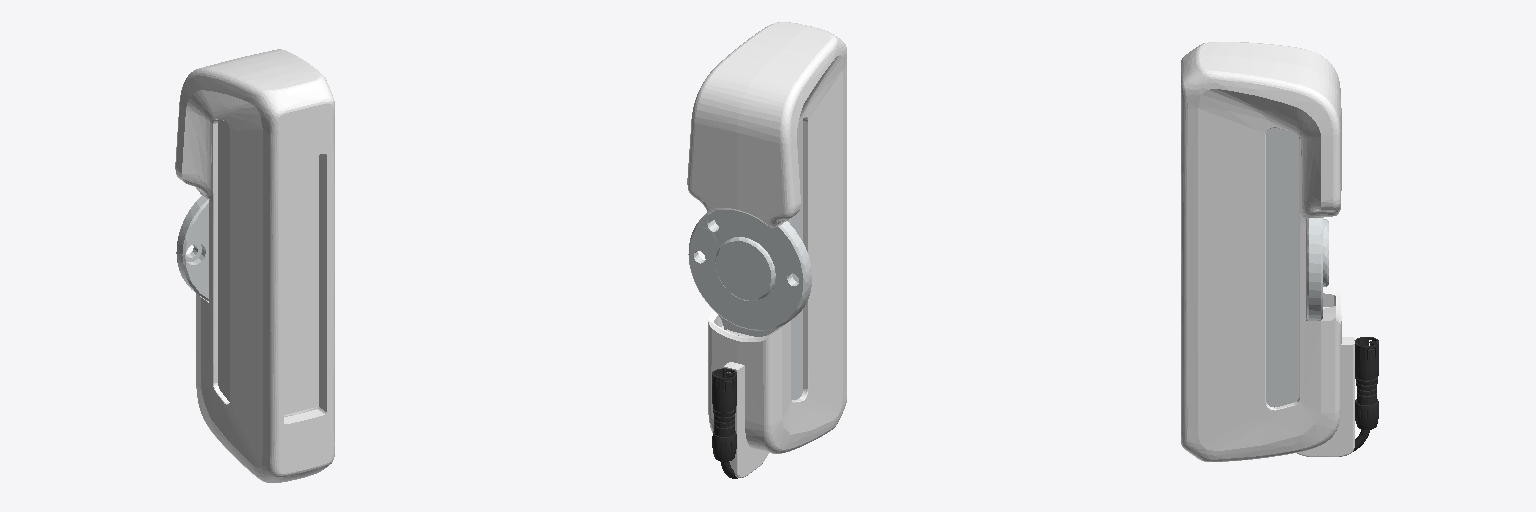
File: hand.obj
3 renders of one model, left to right at view 1: azimuth 30°, elevation 25°; view 2: azimuth 150°, elevation 25°; view 3: azimuth 270°, elevation 25°, orthographic.
Visible parts, largest first — view 1: Part__Feature005_005-mesh, Part__Feature005_000-mesh, Part__Feature002_011-mesh; view 2: Part__Feature005_005-mesh, Part__Feature002_011-mesh, Part__Feature_011-mesh, Part__Feature005_000-mesh; view 3: Part__Feature005_005-mesh, Part__Feature005_000-mesh, Part__Feature002_011-mesh, Part__Feature_011-mesh.
Part boxes in pixels (x1,y1,x2,y2): Part__Feature005_005-mesh: (175,49,334,482); Part__Feature005_000-mesh: (218,120,229,401); Part__Feature002_011-mesh: (176,195,208,300); Part__Feature005_005-mesh: (687,22,846,477); Part__Feature002_011-mesh: (688,210,811,336); Part__Feature_011-mesh: (712,368,736,461); Part__Feature005_000-mesh: (791,119,802,399); Part__Feature005_005-mesh: (1181,42,1354,461); Part__Feature005_000-mesh: (1266,128,1298,407); Part__Feature002_011-mesh: (1306,217,1328,320); Part__Feature_011-mesh: (1355,337,1378,429).
Bounding box in the file's own units: 0.063 × 0.2045 × 0.0919.